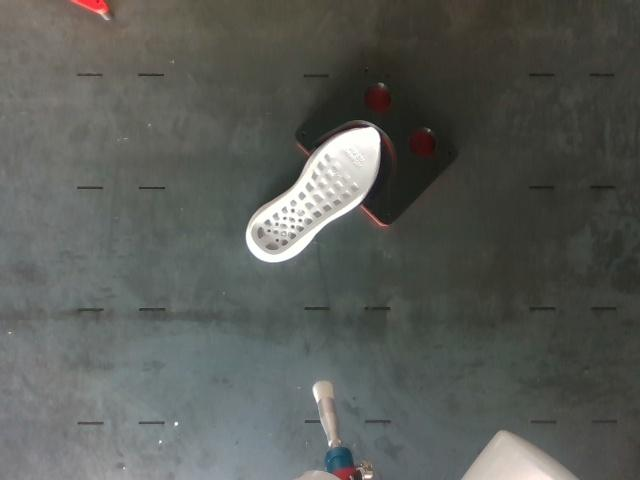shoes: (250, 128, 380, 254)
